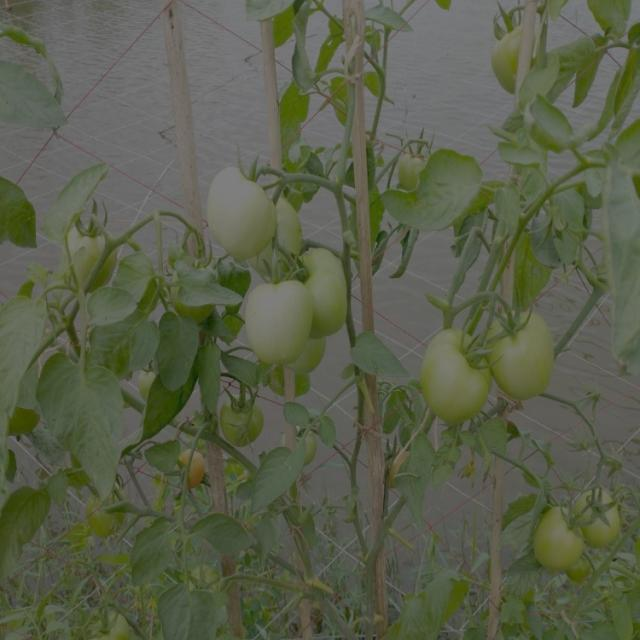tomato: (487, 294, 569, 400), (420, 325, 498, 429), (243, 267, 317, 373), (206, 160, 281, 252), (531, 493, 588, 579), (303, 254, 360, 337), (61, 209, 122, 282), (580, 485, 633, 550), (490, 16, 533, 91), (223, 388, 271, 451), (393, 138, 438, 193), (171, 443, 212, 490), (89, 603, 132, 640), (282, 191, 306, 253), (184, 563, 222, 600), (285, 427, 318, 469), (131, 360, 163, 399)
